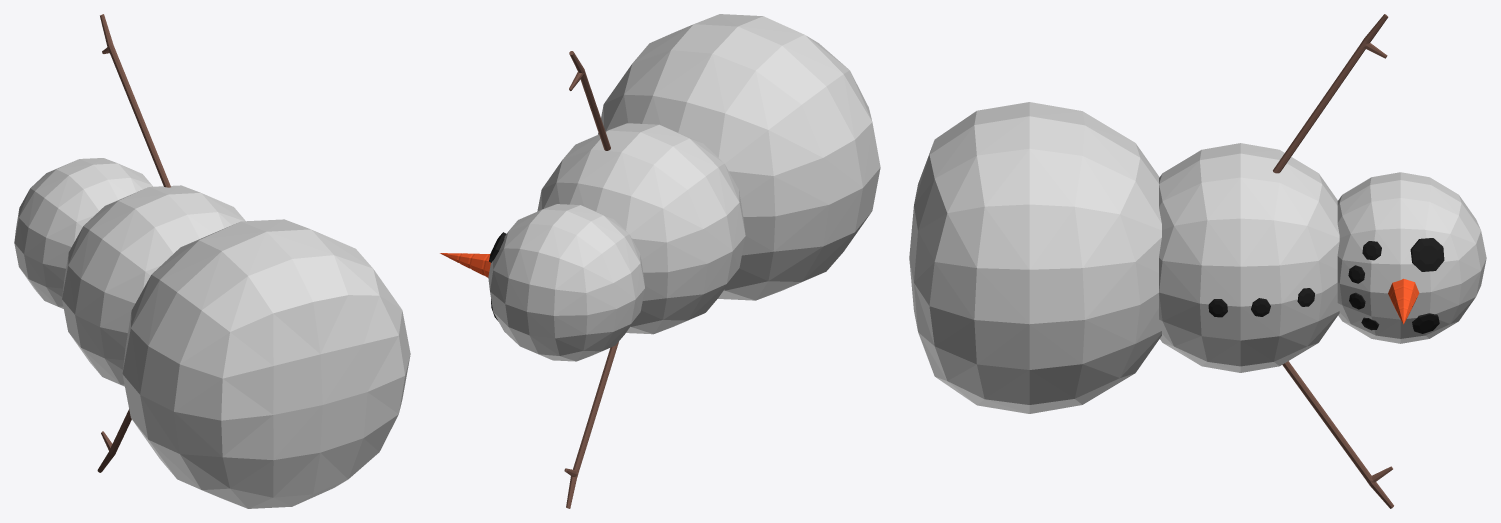
Rendered from Snowman_01.obj.
The picture shows the model from 3 angles, left to right: view 1: azimuth 30°, elevation 25°; view 2: azimuth 150°, elevation 25°; view 3: azimuth 270°, elevation 25°; orthographic projection. The views are drawn at different scales.
Parts seen in each view (by area): view 1: Snowman_01.005; view 2: Snowman_01.005; view 3: Snowman_01.005.
Part boxes in pixels (x1,y1,x2,y2): Snowman_01.005: [14, 14, 410, 508]; Snowman_01.005: [440, 14, 880, 508]; Snowman_01.005: [909, 14, 1486, 508].
Size of the model in its own units: 5.35 by 9.29 by 9.84.
